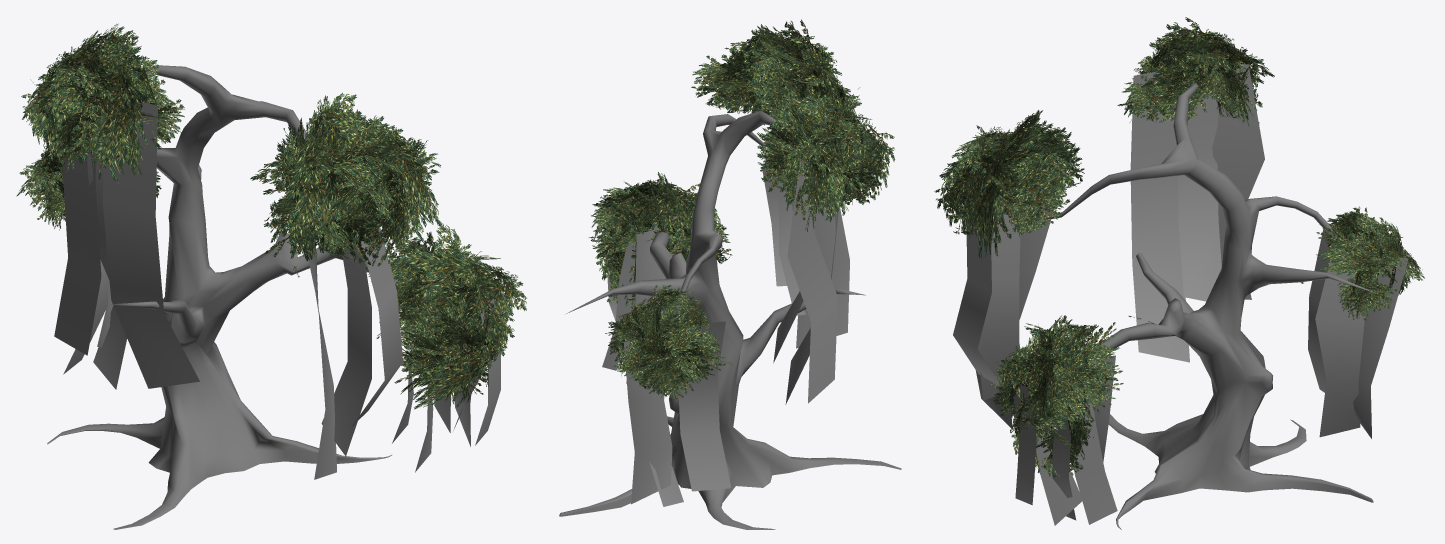
File: ekytree_lod0.fbx
The picture shows the model from 3 angles, left to right: view 1: azimuth 30°, elevation 25°; view 2: azimuth 150°, elevation 25°; view 3: azimuth 270°, elevation 25°; orthographic projection. The views are drawn at different scales.
Visible parts, largest first — view 1: Default_Layer; view 2: Default_Layer; view 3: Default_Layer.
Boxes of the visible parts, x1,y1,x2,y2 form: Default_Layer: (16, 23, 526, 529); Default_Layer: (559, 19, 901, 529); Default_Layer: (934, 17, 1424, 529).
Size of the model in its own units: 1608 by 1669 by 1886.
